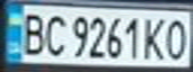1: (121, 13, 142, 60)
2: (87, 12, 109, 60)
6: (106, 12, 127, 60)
9: (66, 11, 90, 58)
B: (15, 8, 48, 56)
C: (39, 10, 69, 57)
K: (139, 14, 169, 61)
O: (163, 15, 193, 61)
